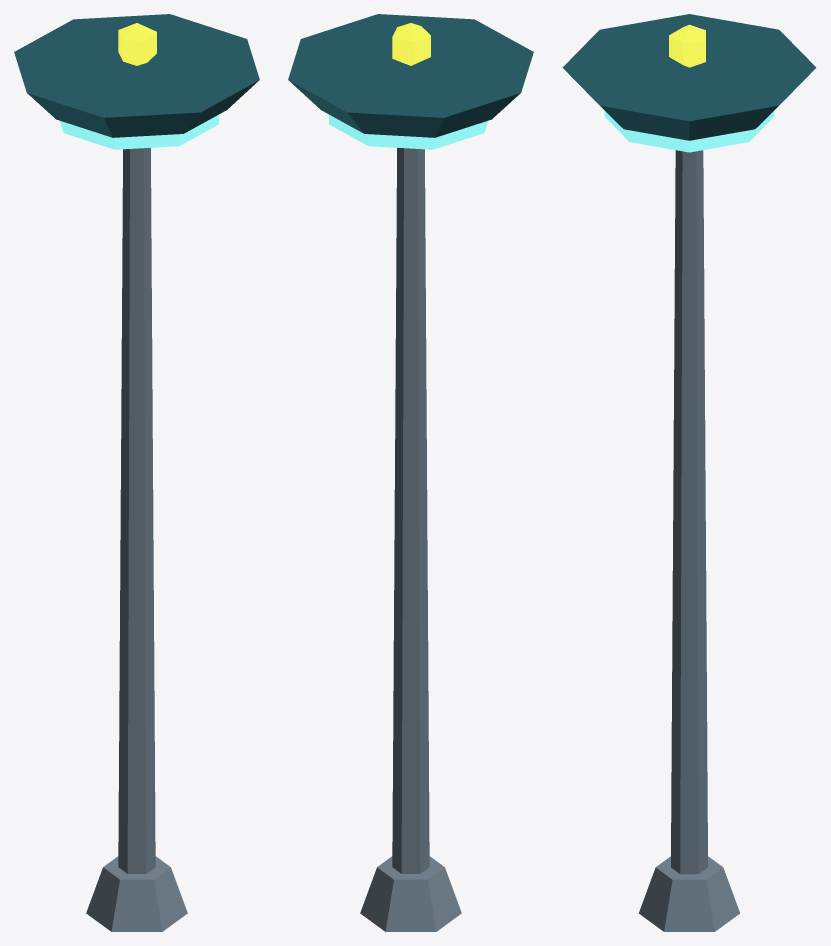
File: City_Lamp.fbx
3 renders of one model, left to right at view 1: azimuth 30°, elevation 25°; view 2: azimuth 150°, elevation 25°; view 3: azimuth 270°, elevation 25°, orthographic.
Parts seen in each view (by area): view 1: City_Lamp; view 2: City_Lamp; view 3: City_Lamp.
Part boxes in pixels (x1,y1,x2,y2): City_Lamp: (14,14,259,931); City_Lamp: (288,14,533,931); City_Lamp: (562,14,816,931).
Size of the model in its own units: 1.5 by 1.5 by 5.79.
